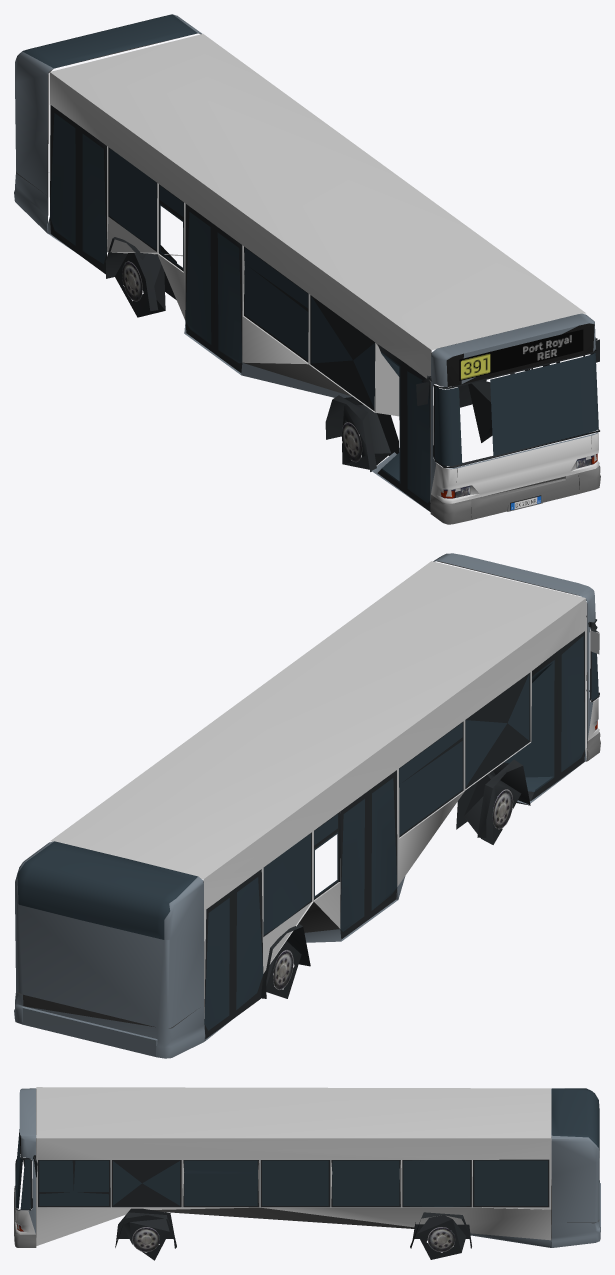
File: bus_far.glb
3 views of the same model, one above another, from view 1: azimuth 30°, elevation 25°; view 2: azimuth 150°, elevation 25°; view 3: azimuth 270°, elevation 25° (orthographic). The views are drawn at different scales.
Parts seen in each view (by area): view 1: trim-whiteBase-body, glass-glass-body, paint-accentColor-body, rubber-blackRubber-body, glass-darkglass-body, rubber-blackPlastic-body, trim-texturedParts-body, trim-bumper-body, trim-darkColor-body, rubber-tires-(False, True), rubber-tires-(False, False), trim-display-body (+1 smaller); view 2: trim-whiteBase-body, glass-glass-body, paint-accentColor-body, rubber-blackRubber-body, glass-darkglass-body, rubber-blackPlastic-body, trim-darkColor-body, rubber-tires-(False, False), rubber-tires-(False, True); view 3: trim-whiteBase-body, glass-glass-body, paint-accentColor-body, rubber-blackRubber-body, glass-darkglass-body, trim-darkColor-body, rubber-blackPlastic-body, rubber-tires-(True, True), rubber-tires-(True, False), alloy-texturedParts-(True, False), alloy-texturedParts-(True, True), trim-bumper-body.
Boxes of the visible parts, x1,y1,x2,y2 form: trim-whiteBase-body: [49, 34, 599, 503]; glass-glass-body: [30, 16, 598, 500]; paint-accentColor-body: [14, 14, 597, 510]; rubber-blackRubber-body: [50, 105, 584, 511]; glass-darkglass-body: [23, 14, 430, 503]; rubber-blackPlastic-body: [105, 237, 599, 471]; trim-texturedParts-body: [441, 329, 597, 510]; trim-bumper-body: [430, 465, 600, 524]; trim-darkColor-body: [16, 33, 565, 495]; rubber-tires-(False, True): [115, 253, 165, 317]; rubber-tires-(False, False): [342, 404, 390, 469]; trim-display-body: [446, 323, 594, 386]; trim-whiteBase-body: [50, 561, 599, 1018]; glass-glass-body: [24, 623, 598, 1027]; paint-accentColor-body: [14, 553, 595, 1058]; rubber-blackRubber-body: [204, 631, 584, 1038]; glass-darkglass-body: [17, 636, 584, 1030]; rubber-blackPlastic-body: [261, 616, 599, 998]; trim-darkColor-body: [17, 561, 587, 1028]; rubber-tires-(False, False): [464, 773, 521, 844]; rubber-tires-(False, True): [266, 941, 301, 998]; trim-whiteBase-body: [15, 1087, 551, 1245]; glass-glass-body: [15, 1090, 599, 1209]; paint-accentColor-body: [15, 1088, 600, 1247]; rubber-blackRubber-body: [38, 1159, 549, 1207]; glass-darkglass-body: [39, 1088, 599, 1206]; trim-darkColor-body: [36, 1089, 599, 1239]; rubber-blackPlastic-body: [15, 1156, 471, 1248]; rubber-tires-(True, True): [417, 1215, 466, 1259]; rubber-tires-(True, False): [122, 1218, 169, 1260]; alloy-texturedParts-(True, False): [132, 1227, 159, 1252]; alloy-texturedParts-(True, True): [427, 1227, 455, 1252]; trim-bumper-body: [14, 1186, 36, 1247].
Bounding box in the file's own units: 2.96 × 3.02 × 12.17.
14 materials, 2 textured.
